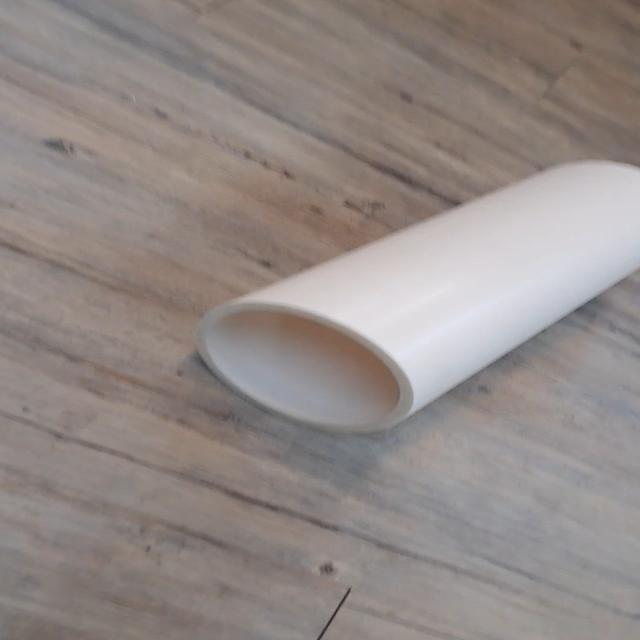CORAL: (172, 147, 640, 441)
